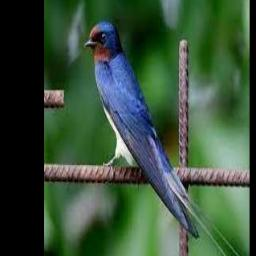Swallow: (84, 22, 247, 256)
